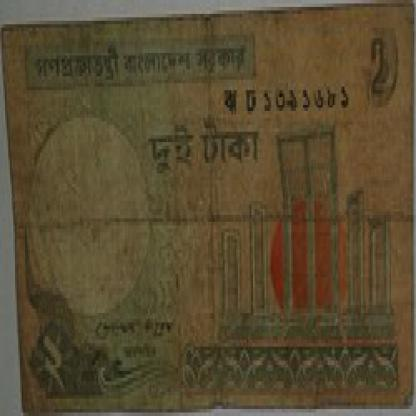two taka: (38, 319, 77, 406), (364, 24, 390, 94)
